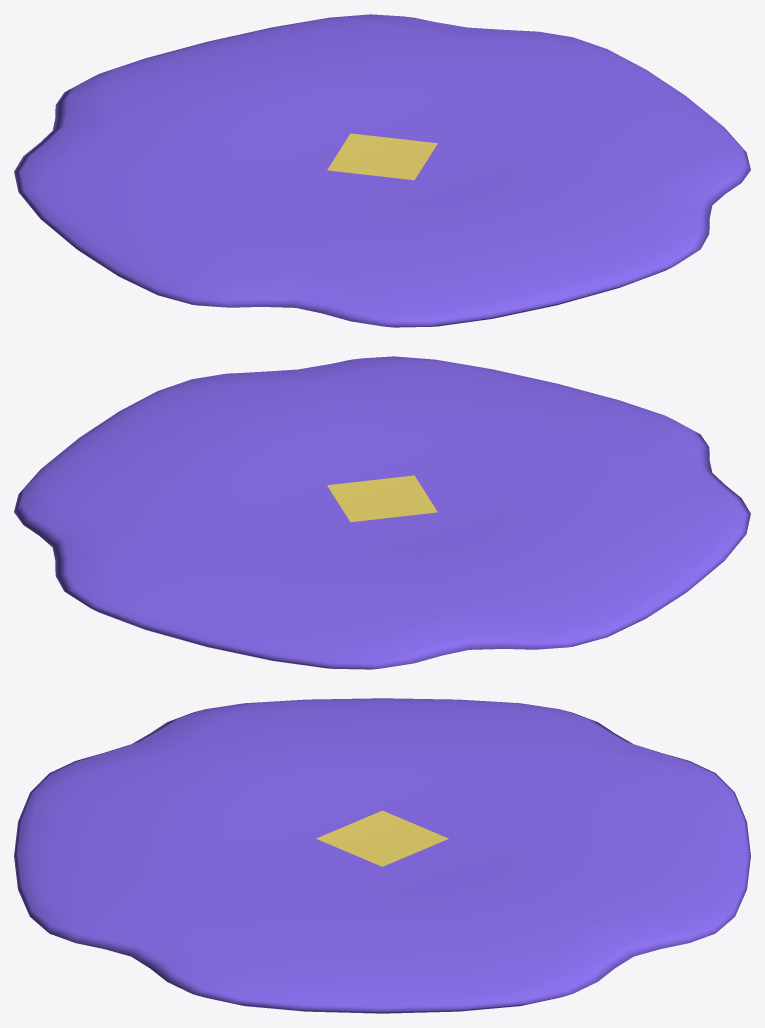
File: Teleport pad .fbx
3 renders of one model, top to bottom at view 1: azimuth 30°, elevation 25°; view 2: azimuth 150°, elevation 25°; view 3: azimuth 270°, elevation 25°, orthographic. The views are drawn at different scales.
Parts seen in each view (by area): view 1: Plane; view 2: Plane; view 3: Plane.
Boxes of the visible parts, x1,y1,x2,y2 form: Plane: (14,14,750,327); Plane: (14,356,750,669); Plane: (14,698,750,1013).
Size of the model in its own units: 306 by 18.21 by 306.
